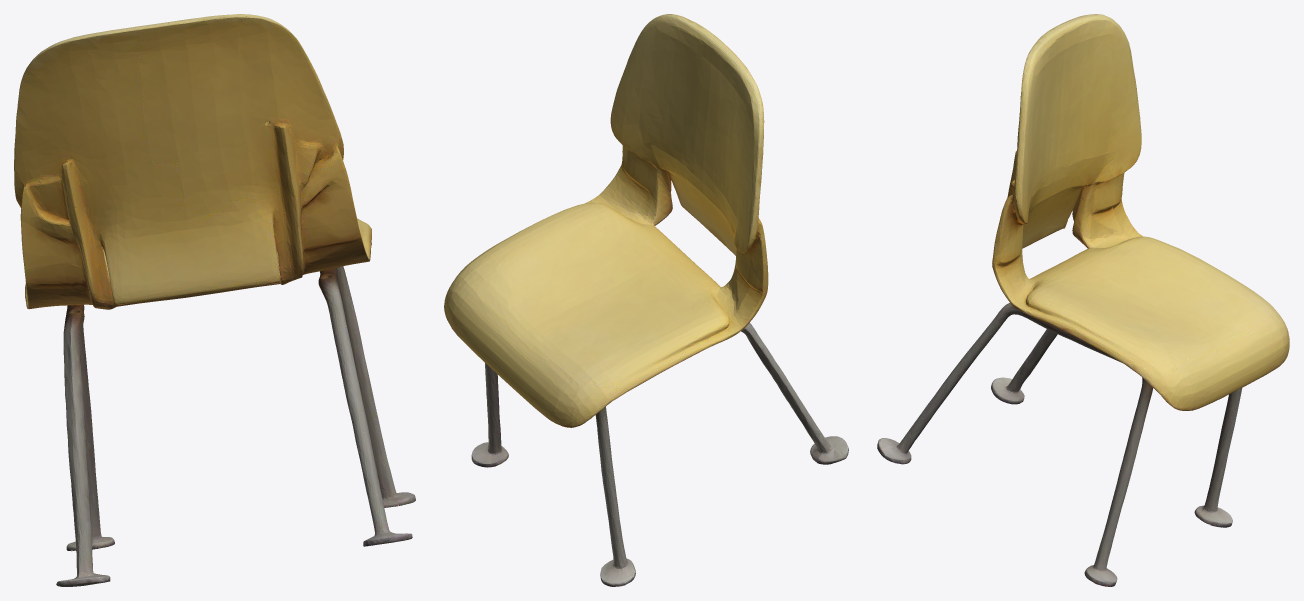
File: light-colored_wooden_chair_against_back_wall_(left)_000.glb
3 views of the same model, side by side, from view 1: azimuth 30°, elevation 25°; view 2: azimuth 150°, elevation 25°; view 3: azimuth 270°, elevation 25° (orthographic). The views are drawn at different scales.
Visible parts, largest first — view 1: light-colored_wooden_chair_against_back_wall_(left)_000.obj; view 2: light-colored_wooden_chair_against_back_wall_(left)_000.obj; view 3: light-colored_wooden_chair_against_back_wall_(left)_000.obj.
Boxes of the visible parts, x1,y1,x2,y2 form: light-colored_wooden_chair_against_back_wall_(left)_000.obj: (14, 14, 415, 586); light-colored_wooden_chair_against_back_wall_(left)_000.obj: (444, 14, 848, 586); light-colored_wooden_chair_against_back_wall_(left)_000.obj: (877, 14, 1289, 586).
Size of the model in its own units: 0.3441 by 0.4902 by 0.3746.
1 material, 1 textured.
